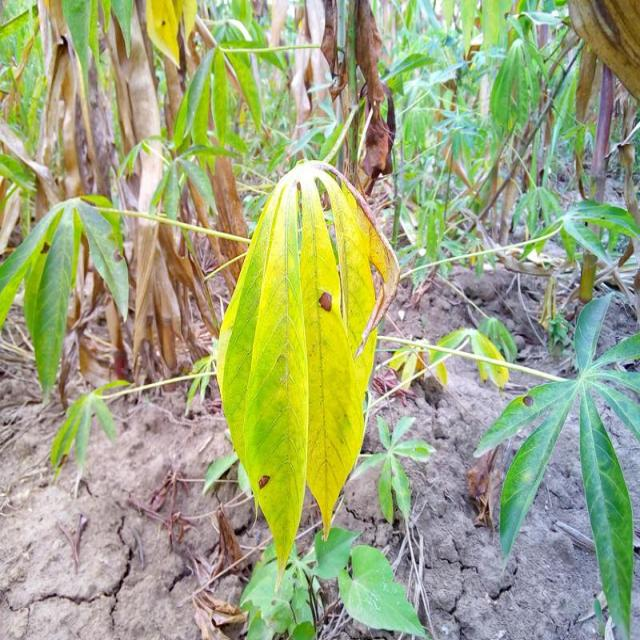cassava leaf: (214, 158, 400, 590)
